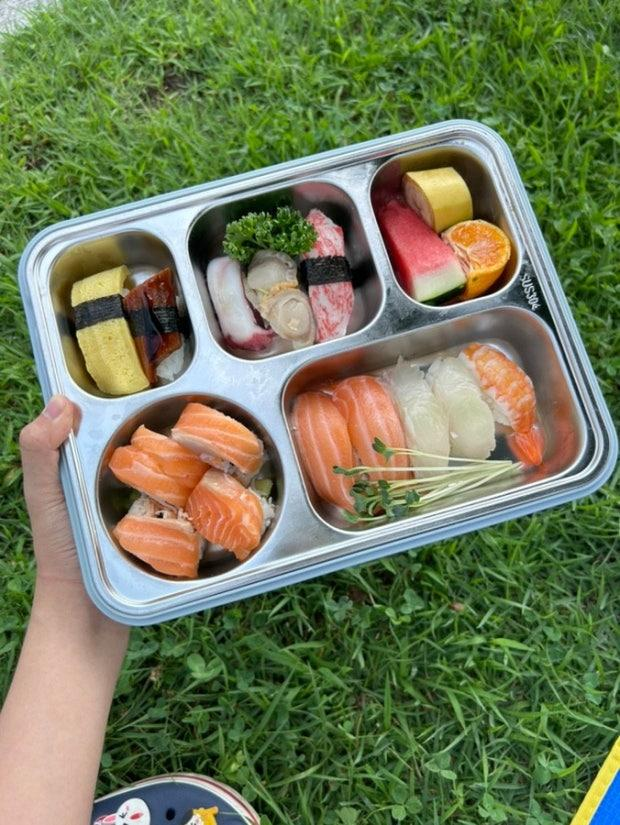Lunch Box: (18, 120, 617, 624)
